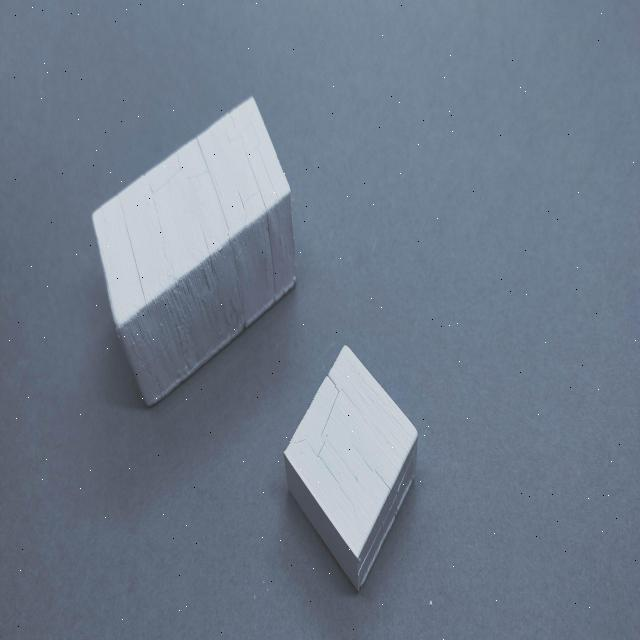cracking: (186, 123, 234, 257), (301, 364, 349, 456)
